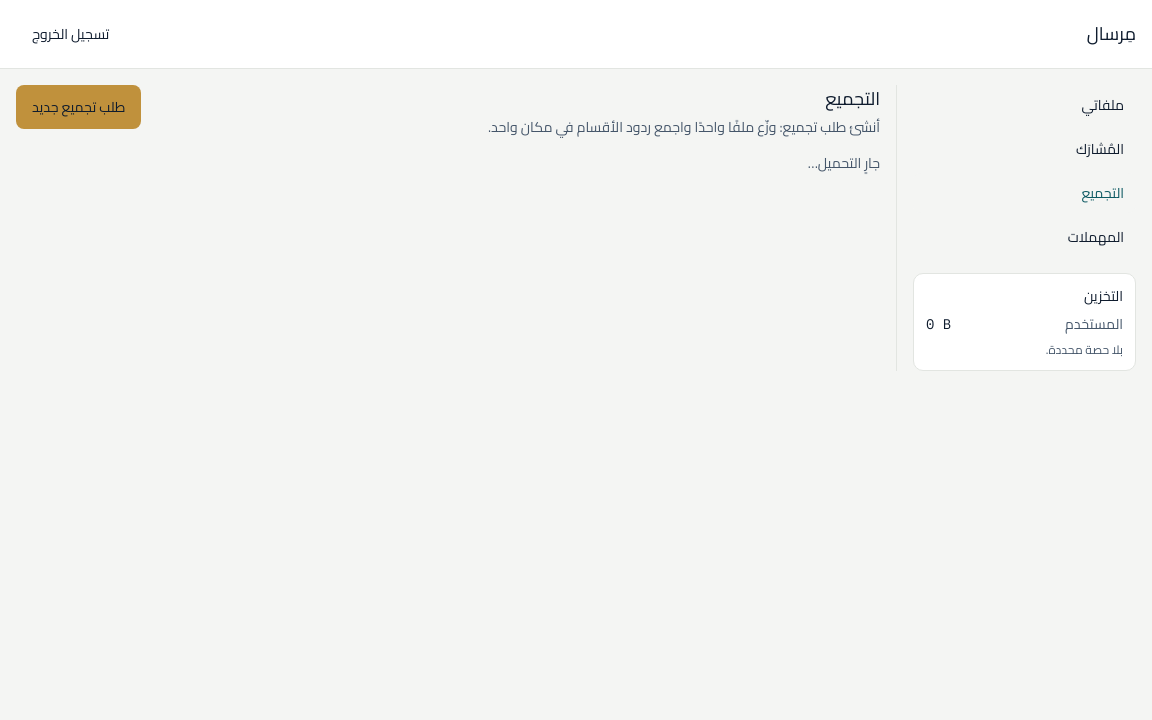
it: CollectionsView — owner list (Collections Phase 3) › clicking "new" opens the create modal
Click the button "طلب تجميع جديد" at (79, 107), box [16,85,141,129]
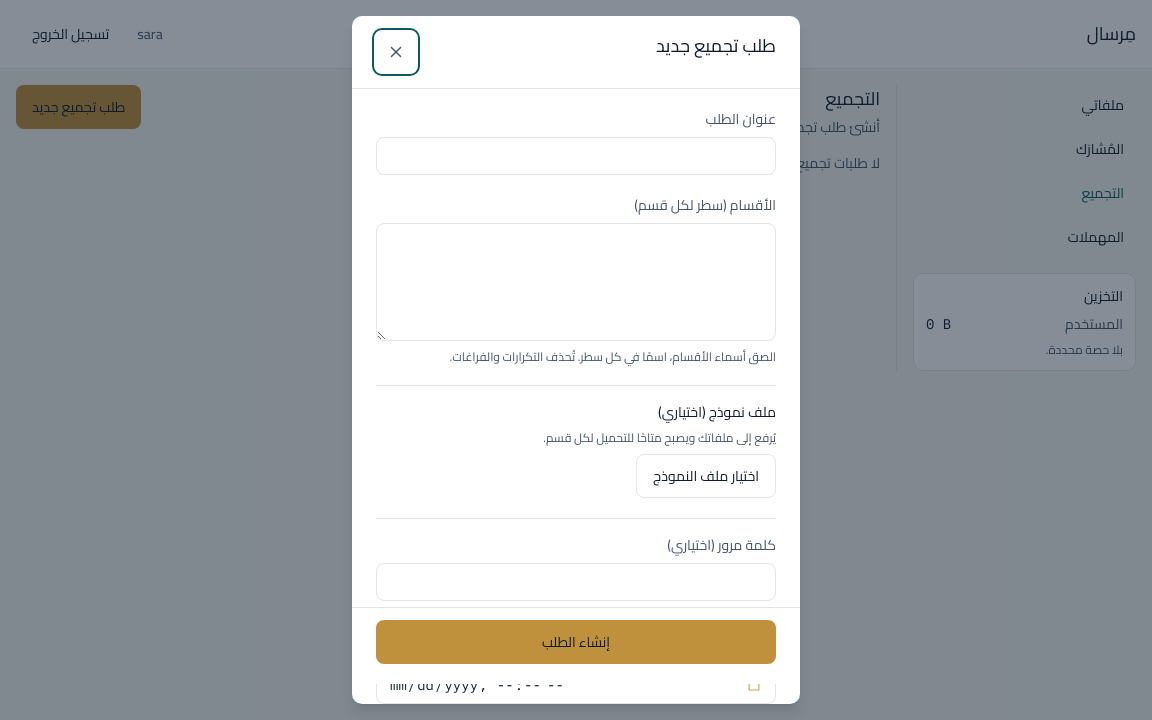
Result: the dialog is shown at [352,16,800,704]
